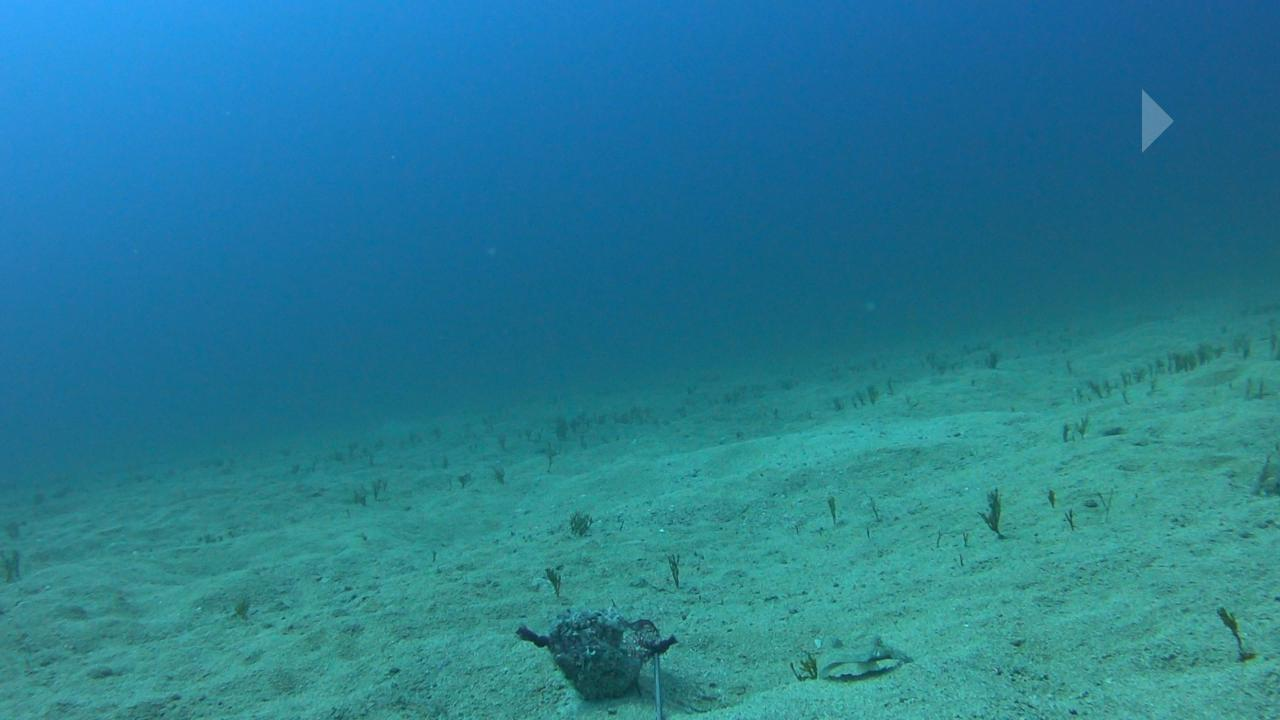bothus: (810, 630, 913, 681)
